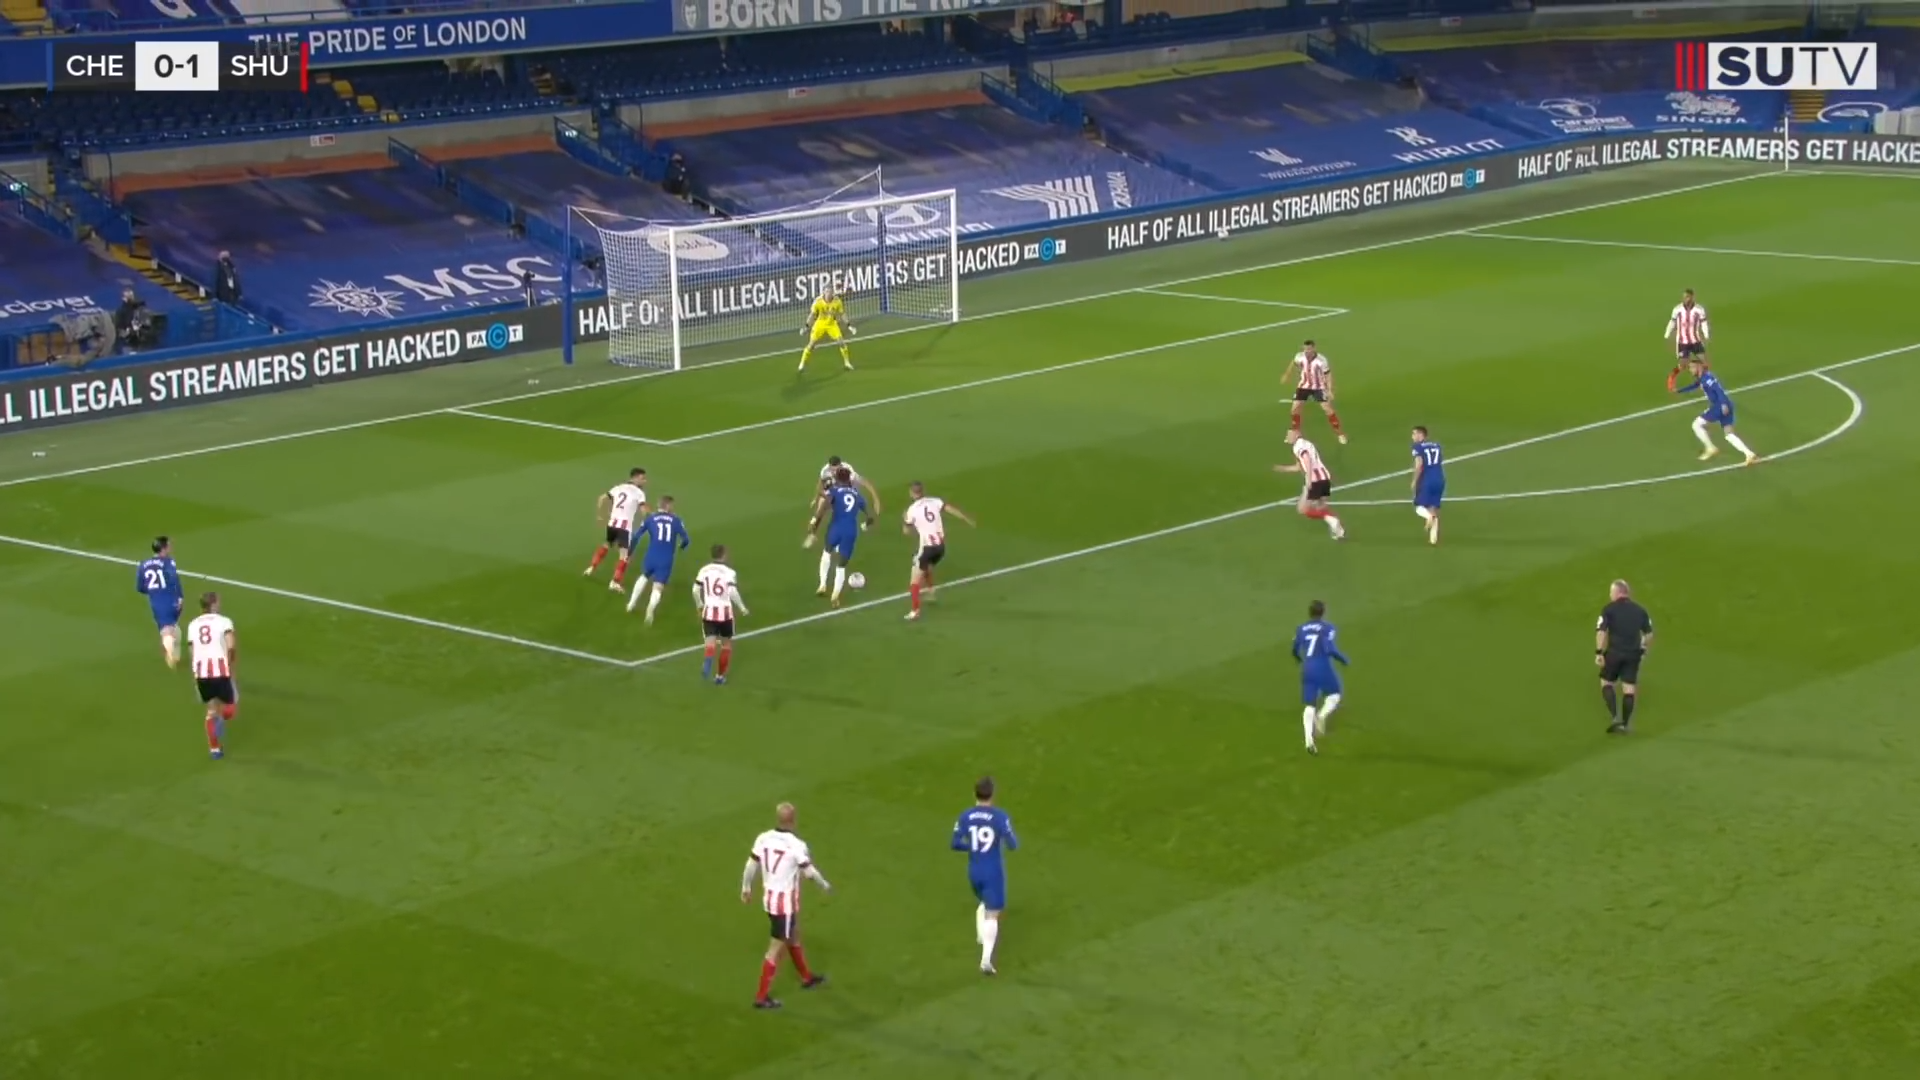Player: (732, 788, 848, 1023), (945, 759, 1034, 988), (678, 537, 760, 692), (1280, 589, 1354, 752), (1391, 420, 1461, 552)
